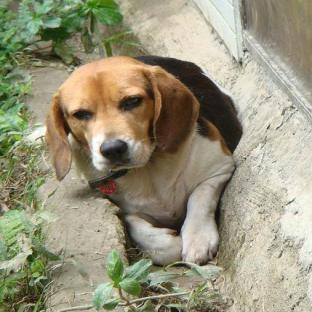Animal: (45, 56, 241, 265)
